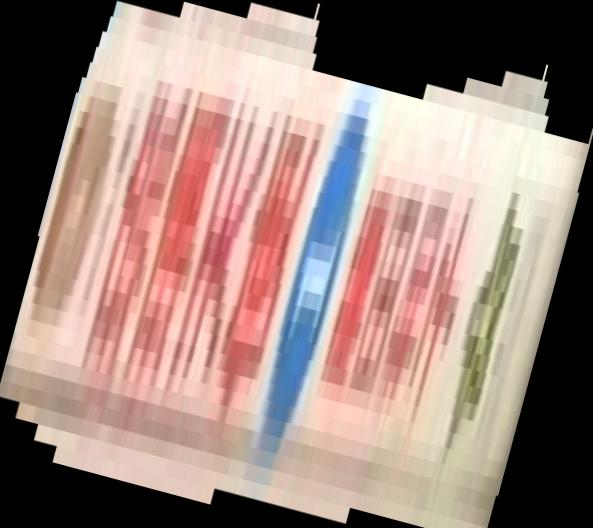flat: (1, 1, 593, 528)
